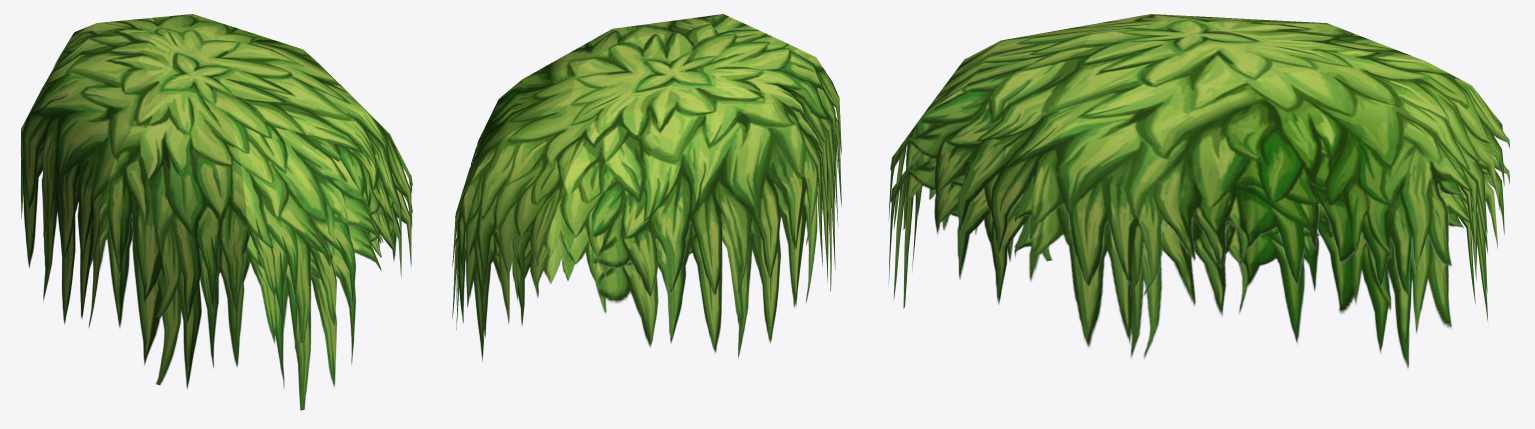
The model's file is bush-two.glb.
3 renders of one model, left to right at view 1: azimuth 30°, elevation 25°; view 2: azimuth 150°, elevation 25°; view 3: azimuth 270°, elevation 25°, orthographic. The views are drawn at different scales.
Parts seen in each view (by area): view 1: bush-two; view 2: bush-two; view 3: bush-two.
Boxes of the visible parts, bbox=[...] form: bush-two: bbox=[21, 14, 412, 410]; bush-two: bbox=[452, 14, 841, 361]; bush-two: bbox=[888, 14, 1509, 368].
Bounding box in the file's own units: 5.92 × 4.67 × 9.59.
Materials: 1 (1 with a texture image).
